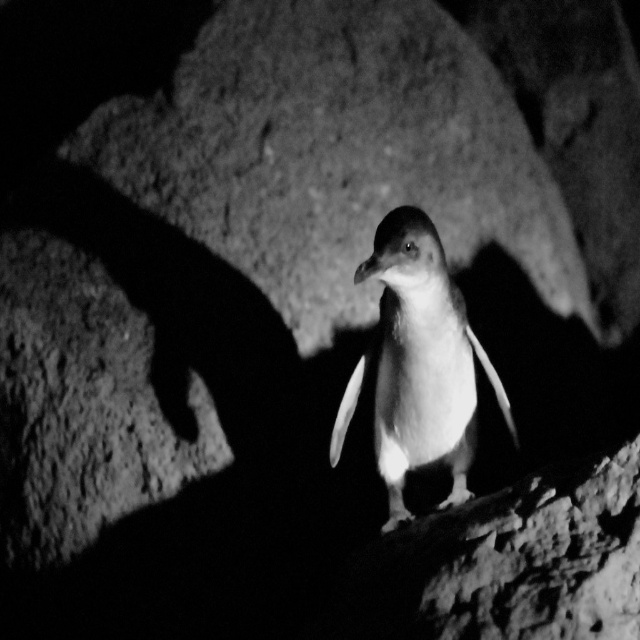Penguin: (328, 206, 521, 534)
